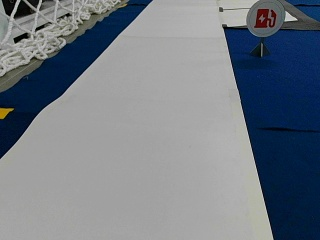battery: (245, 0, 286, 37)
